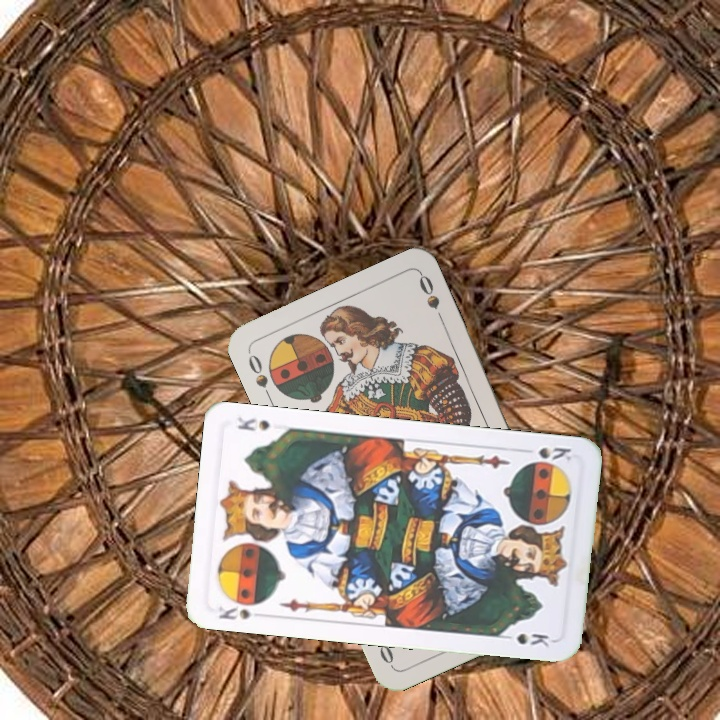SK: (214, 595, 266, 622), (534, 443, 575, 464)
SO: (243, 348, 275, 404)
